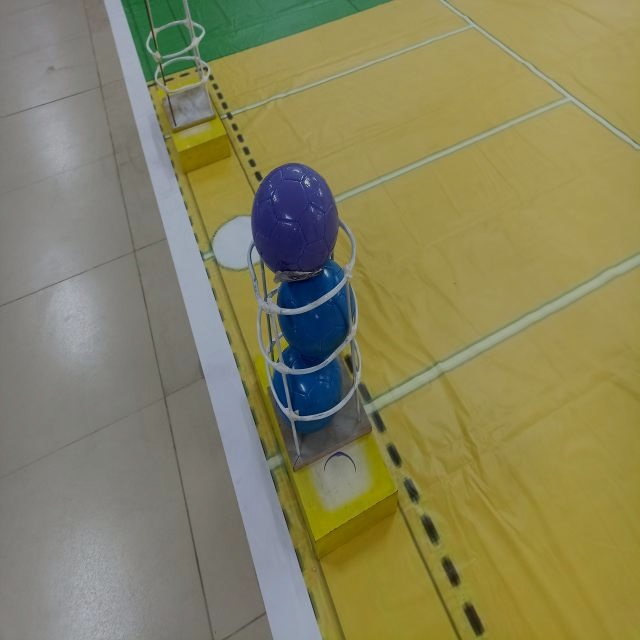blue_ball: (264, 340, 356, 444), (269, 257, 363, 355)
purple_ball: (235, 147, 355, 290)
silo: (233, 195, 389, 489), (129, 0, 230, 148)
